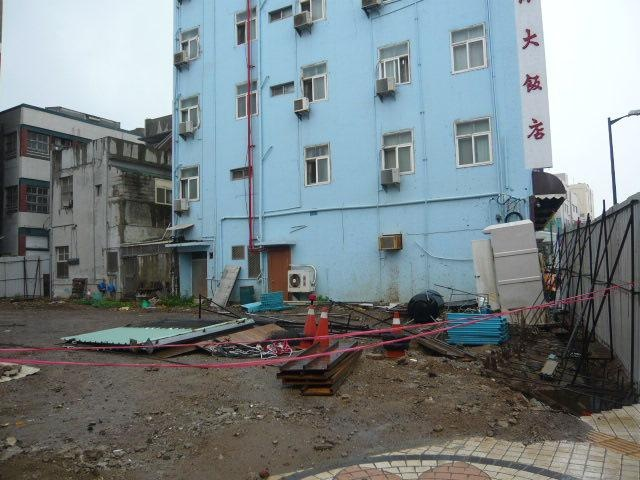bucket: (405, 288, 446, 325)
